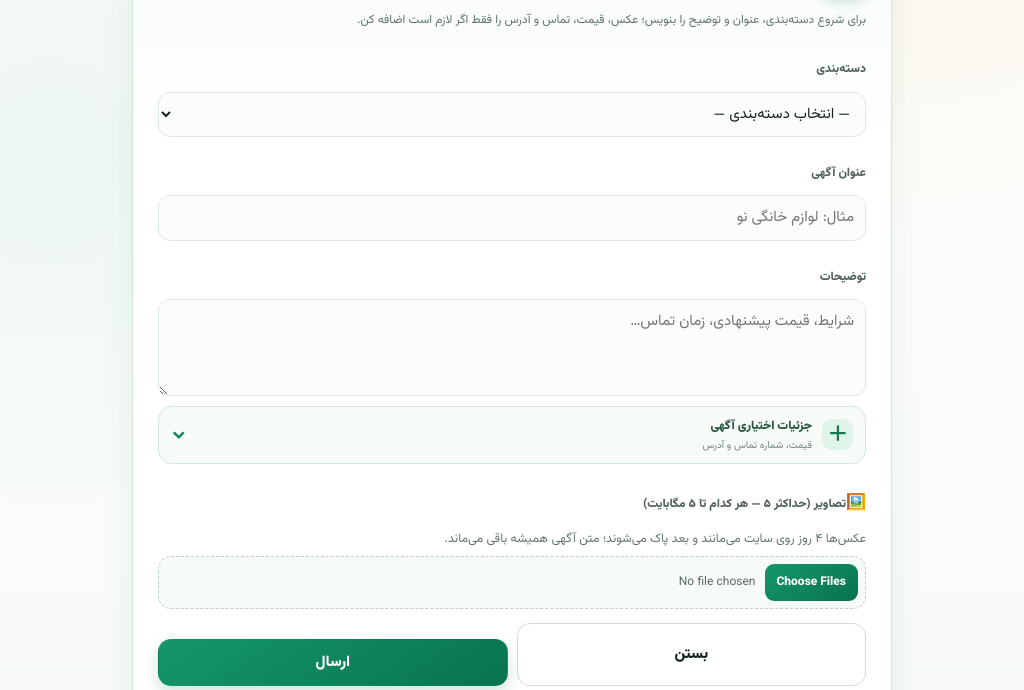
Scenario: AdForm › surfaces API errors from a rejected submission
Select "لوازم" in the dropdown labelled "دسته‌بندی" at (512, 114), box [158, 92, 866, 137]
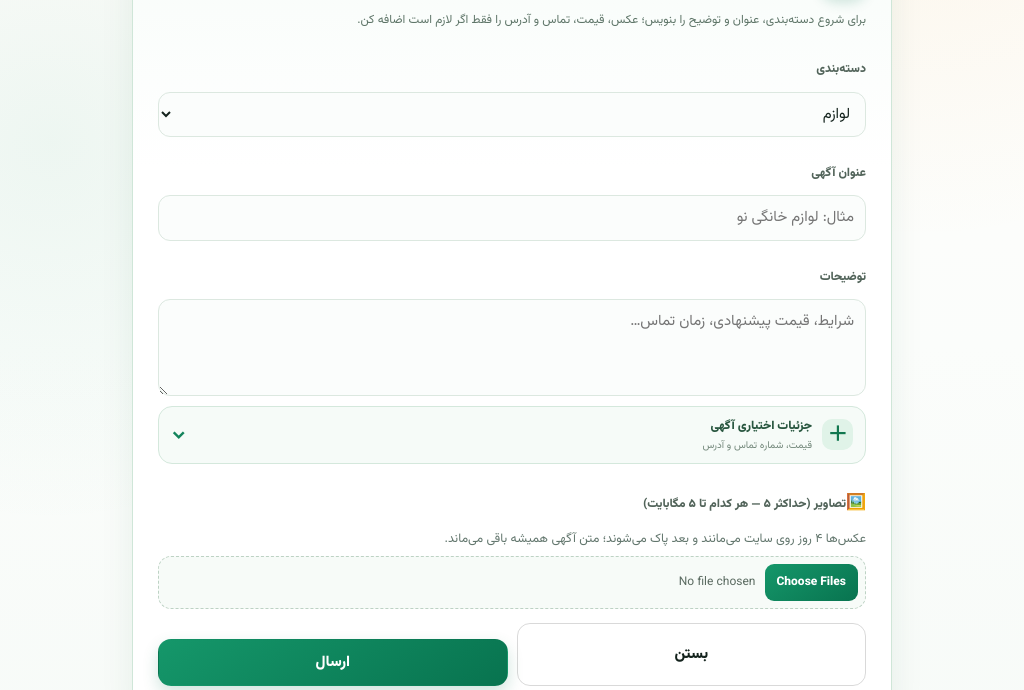
Type "کولر گازی نو" into the field labelled "عنوان آگهی" at (512, 218), box [158, 195, 866, 241]
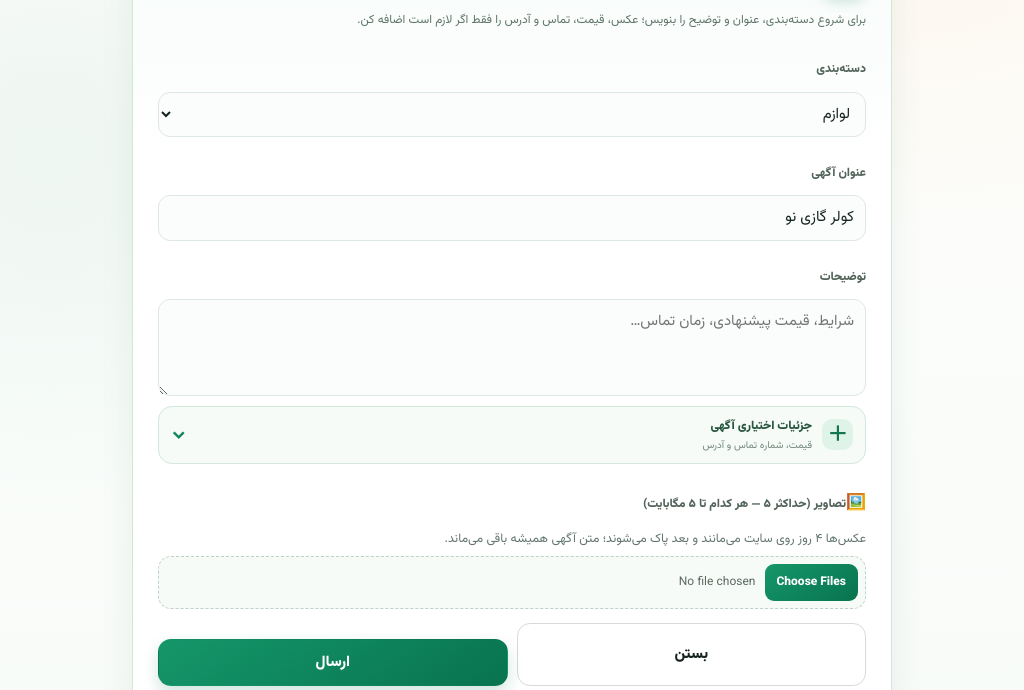
Type "کولر گازی نو با گارانتی معتبر" into the text box labelled "توضیحات" at (512, 347), box [158, 299, 866, 396]
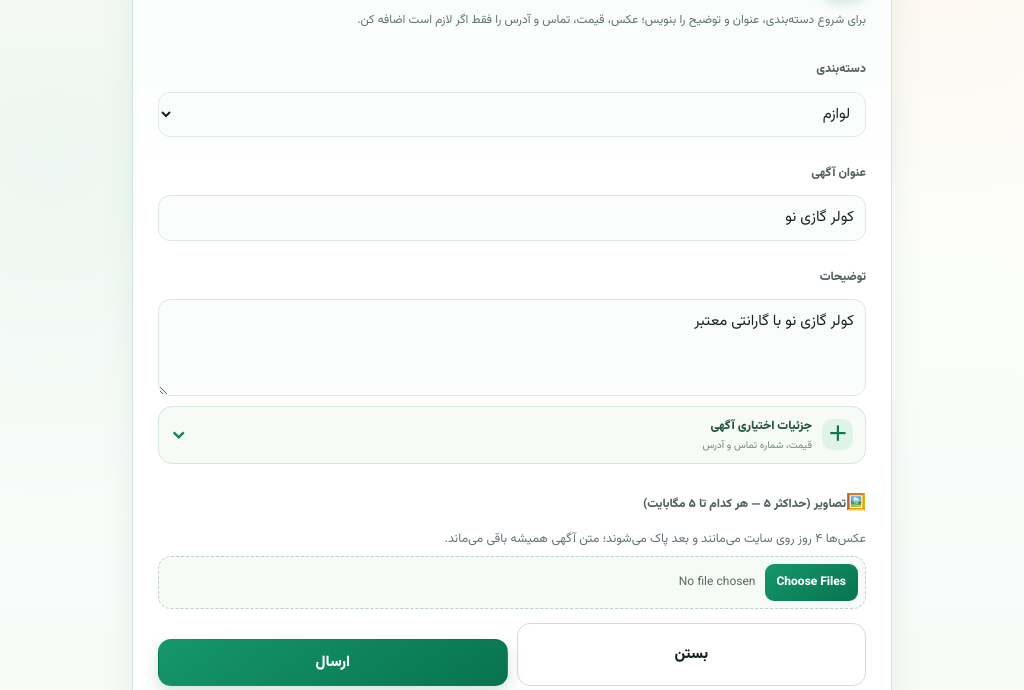
Click the button "ارسال" at (333, 663), box [158, 639, 508, 686]
(page scrolled)
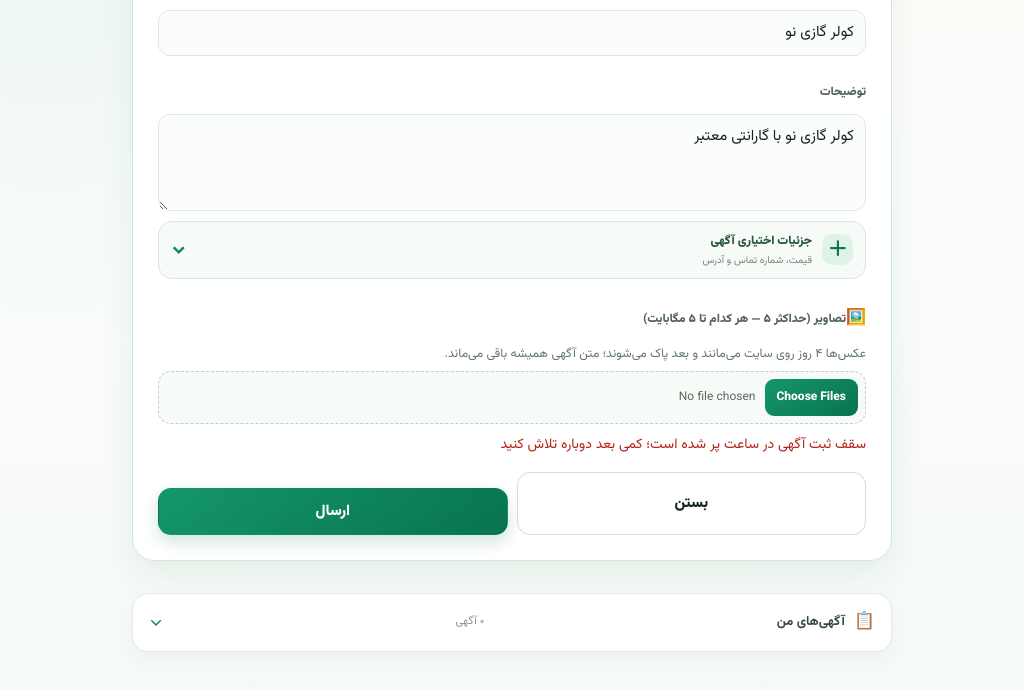
expect the button "ارسال" is enabled: met, box [158, 488, 508, 535]
expect the message shows "سقف ثبت آگهی در ساعت پر شده است": met, box [500, 434, 866, 456]
